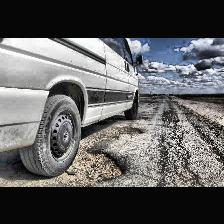pothole: (58, 146, 128, 184), (106, 126, 144, 134), (134, 115, 148, 119)
